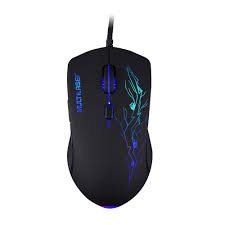mouse: (62, 47, 152, 210)
